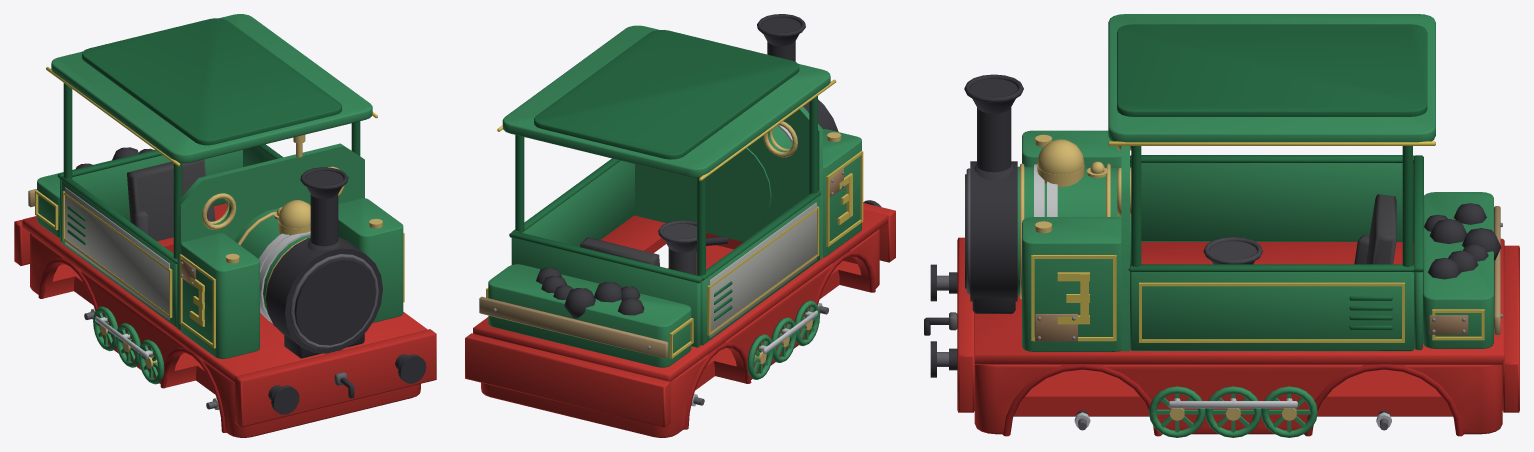
Rendered from engine.glb.
3 renders of one model, left to right at view 1: azimuth 30°, elevation 25°; view 2: azimuth 150°, elevation 25°; view 3: azimuth 270°, elevation 25°, orthographic. The views are drawn at different scales.
Parts seen in each view (by area): view 1: engine; view 2: engine, engine_sig; view 3: engine, engine_sig.
Part boxes in pixels (bbox=[...]): engine: bbox=[14, 14, 436, 437]; engine: bbox=[465, 14, 895, 437]; engine_sig: bbox=[658, 220, 706, 275]; engine: bbox=[924, 14, 1519, 437]; engine_sig: bbox=[1203, 236, 1262, 264].
Size of the model in its own units: 1.42 by 1.64 by 2.76.
